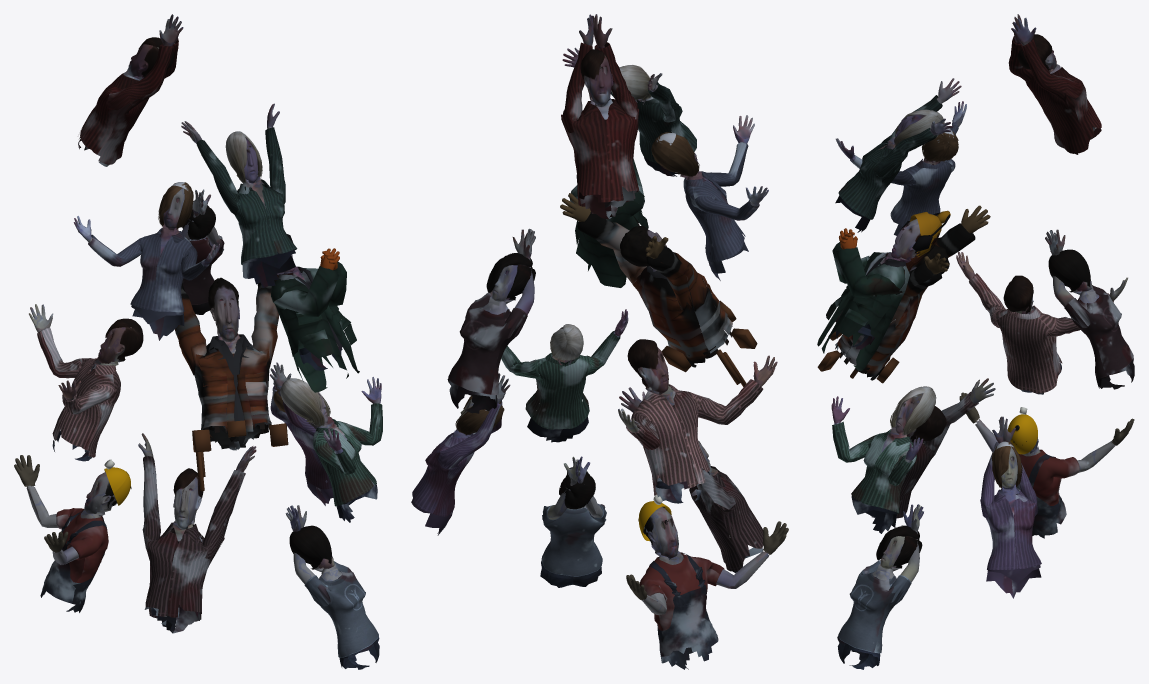
The model's file is _choir_wip.glb.
3 renders of one model, left to right at view 1: azimuth 30°, elevation 25°; view 2: azimuth 150°, elevation 25°; view 3: azimuth 270°, elevation 25°, orthographic. The views are drawn at different scales.
Parts seen in each view (by area): view 1: p6_jacket, p2_shirt, p8_parka, p10_cardigan, p5_shirt, p9_uniform, p11_shirt, p4_cardigan, p0_top, p1_shirt, p1_body, p1_overalls (+26 smaller); view 2: p6_jacket, p11_shirt, p5_shirt, p4_cardigan, p7_top, p9_uniform, p2_shirt, p1_overalls, p3_uniform, p0_top, p8_parka, p1_body (+24 smaller); view 3: p8_parka, p5_shirt, p11_shirt, p3_uniform, p4_cardigan, p6_jacket, p0_top, p10_cardigan, p7_top, p9_uniform, p1_shirt, p2_shirt (+28 smaller).
Part boxes in pixels (left/top/right/bottom): p6_jacket: left=175, top=280, right=278, bottom=448; p2_shirt: left=142, top=456, right=245, bottom=621; p8_parka: left=271, top=261, right=359, bottom=392; p10_cardigan: left=196, top=127, right=297, bottom=264; p5_shirt: left=37, top=327, right=120, bottom=457; p9_uniform: left=88, top=228, right=209, bottom=312; p11_shirt: left=80, top=38, right=178, bottom=164; p4_cardigan: left=312, top=403, right=382, bottom=506; p0_top: left=304, top=561, right=378, bottom=657; p1_shirt: left=56, top=508, right=108, bottom=582; p1_body: left=26, top=472, right=116, bottom=564; p1_overalls: left=40, top=511, right=107, bottom=612; p6_jacket: left=577, top=212, right=732, bottom=367; p11_shirt: left=561, top=42, right=639, bottom=206; p5_shirt: left=626, top=379, right=763, bottom=495; p4_cardigan: left=501, top=330, right=620, bottom=429; p7_top: left=448, top=292, right=527, bottom=394; p9_uniform: left=683, top=142, right=759, bottom=261; p2_shirt: left=689, top=466, right=763, bottom=571; p1_overalls: left=649, top=552, right=718, bottom=669; p3_uniform: left=412, top=402, right=502, bottom=516; p0_top: left=541, top=503, right=606, bottom=576; p8_parka: left=569, top=158, right=648, bottom=287; p1_body: left=642, top=507, right=769, bottom=614; p8_parka: left=817, top=242, right=909, bottom=370; p5_shirt: left=969, top=273, right=1113, bottom=393; p11_shirt: left=1008, top=36, right=1101, bottom=153; p3_uniform: left=980, top=441, right=1041, bottom=569; p4_cardigan: left=832, top=421, right=916, bottom=514; p6_jacket: left=835, top=223, right=975, bottom=380; p0_top: left=838, top=560, right=911, bottom=653; p10_cardigan: left=838, top=95, right=942, bottom=219; p7_top: left=1064, top=285, right=1133, bottom=378; p9_uniform: left=850, top=125, right=958, bottom=226; p1_shirt: left=1015, top=449, right=1079, bottom=505; p2_shirt: left=870, top=392, right=978, bottom=518.
Size of the model in its own units: 2.35 by 4.25 by 2.03.
62 materials, 49 textured.
